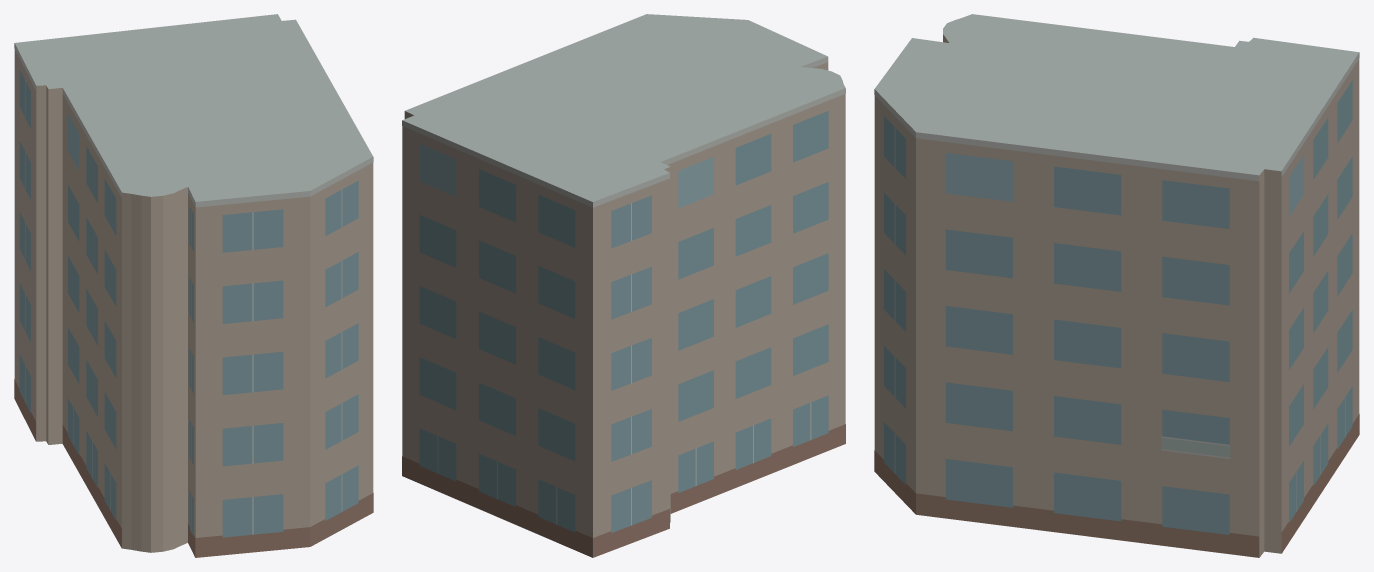
The model's file is survey-upis-32877565.glb.
The picture shows the model from 3 angles, left to right: view 1: azimuth 30°, elevation 25°; view 2: azimuth 150°, elevation 25°; view 3: azimuth 270°, elevation 25°; orthographic projection. The views are drawn at different scales.
Parts seen in each view (by area): view 1: survey-upis-32877565.tmp; view 2: survey-upis-32877565.tmp; view 3: survey-upis-32877565.tmp.
Part boxes in pixels (x1,y1,x2,y2): survey-upis-32877565.tmp: (14,14,373,557); survey-upis-32877565.tmp: (402,14,845,557); survey-upis-32877565.tmp: (874,14,1359,557).
Bounding box in the file's own units: 14.03 × 15.5 × 17.82.
